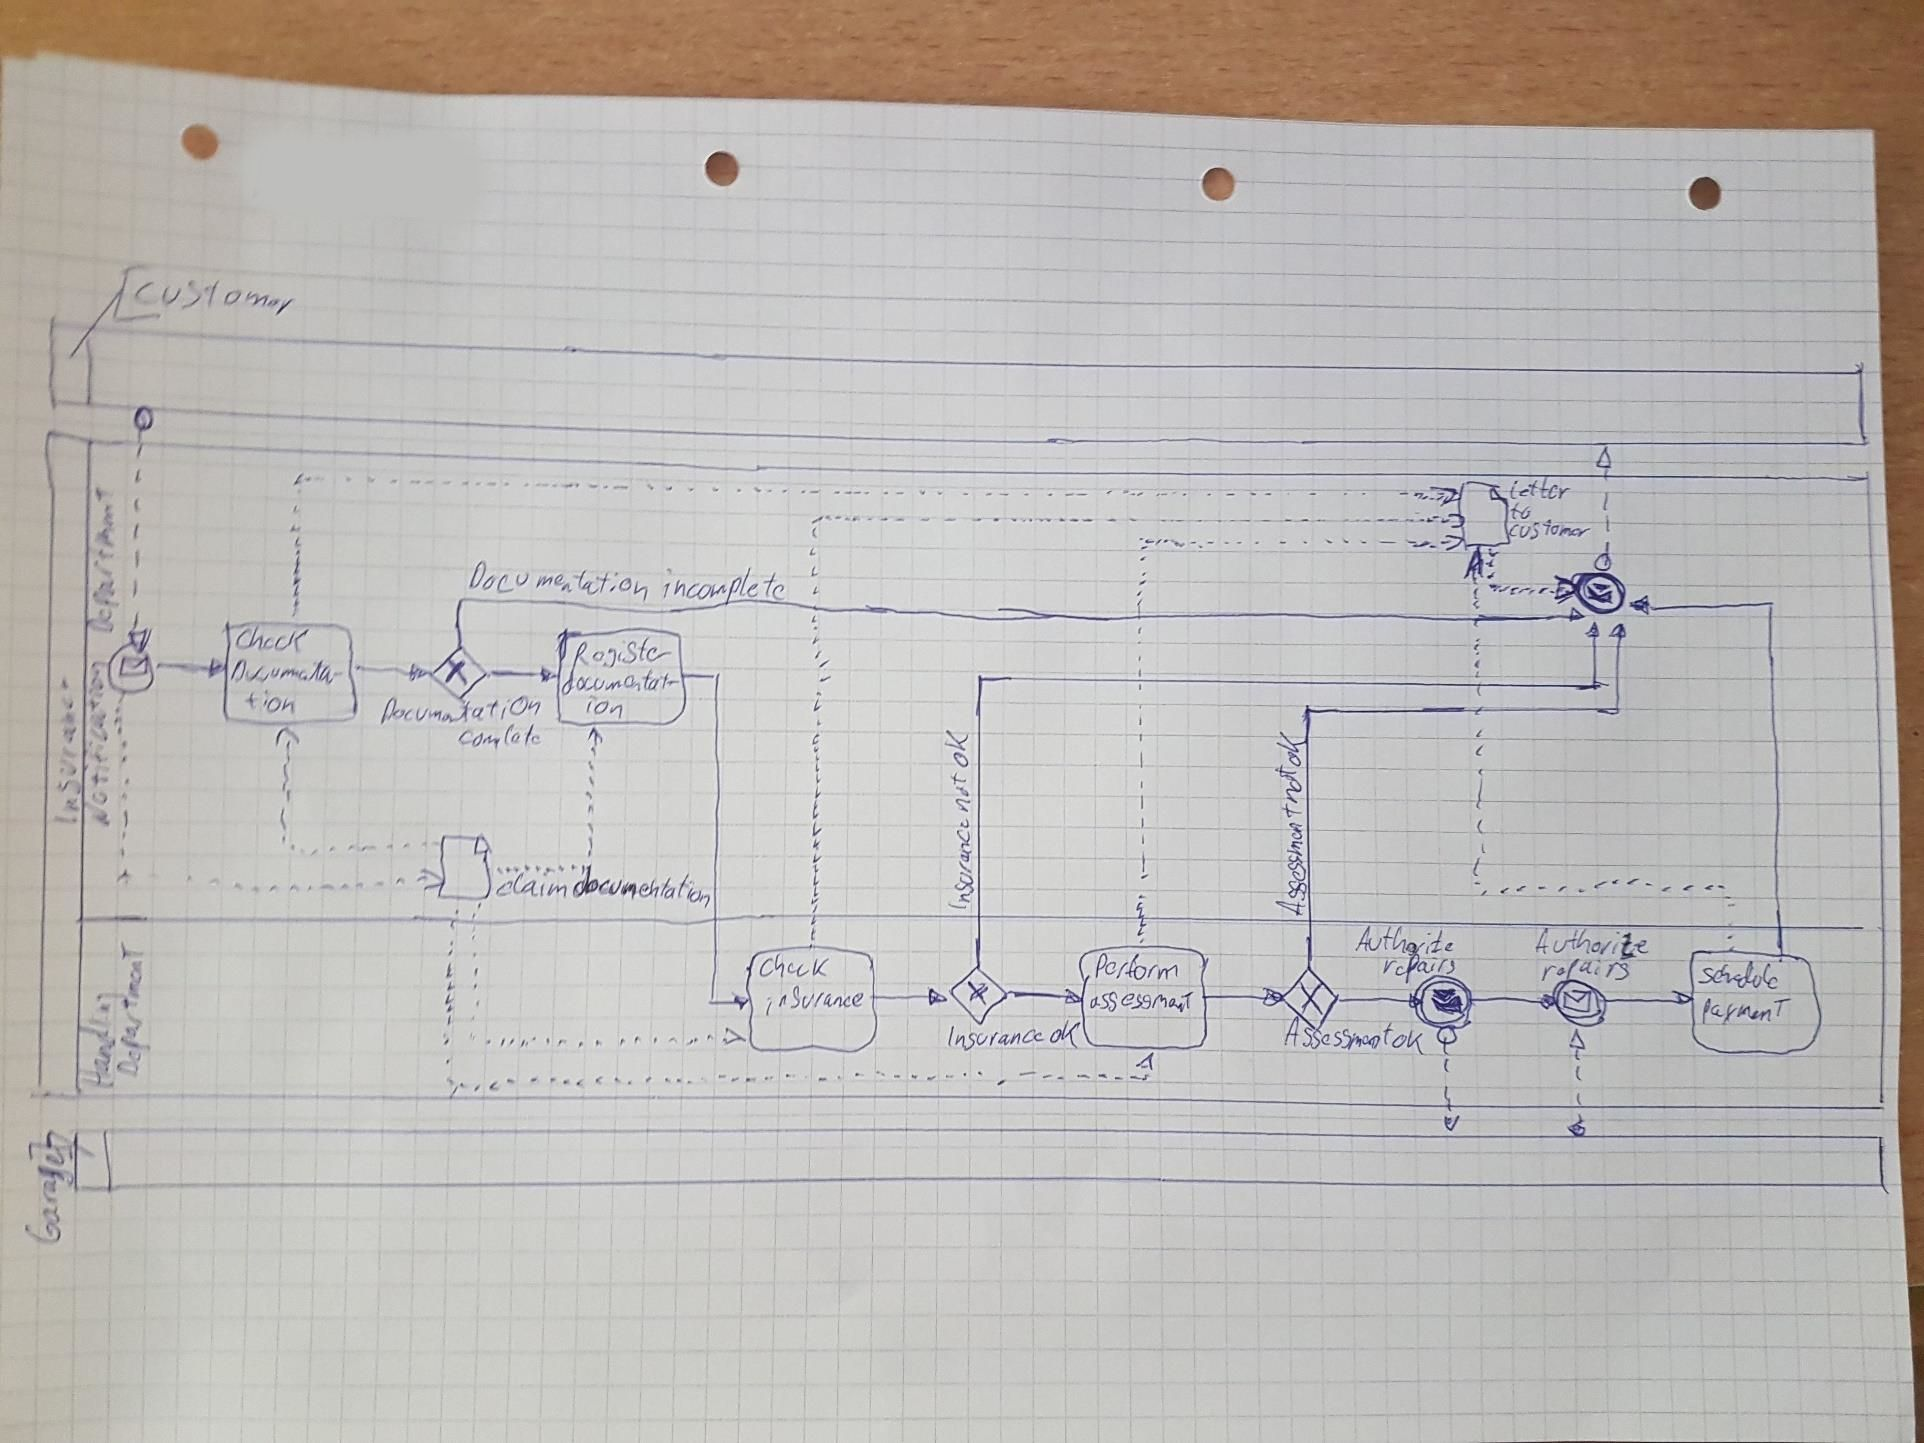Assessment: (1279, 1011, 1398, 1055), (1270, 800, 1312, 920)
Authorize: (1530, 925, 1656, 966), (1350, 922, 1462, 964)
Check: (232, 624, 314, 659)
Department: (77, 477, 126, 640), (111, 937, 158, 1084)
Documenta-: (229, 656, 348, 690)
Documentation: (465, 555, 653, 608), (374, 690, 545, 734)
Garage: (18, 1141, 82, 1250)
Handling: (73, 988, 133, 1091)
Insurance: (45, 665, 88, 831), (942, 1019, 1050, 1058), (942, 815, 980, 916)
Notification: (77, 653, 118, 834)
Perform: (1091, 947, 1183, 988)
Register: (565, 634, 679, 678)
assessment: (1085, 987, 1198, 1017)
check: (753, 949, 835, 984)
claim: (492, 869, 573, 905)
complete: (453, 721, 545, 753)
customer: (127, 274, 301, 321), (1504, 515, 1598, 546)
documentat-: (556, 665, 683, 700)
documentation: (568, 861, 717, 914)
incomplete: (654, 562, 792, 611)
insurance: (761, 981, 870, 1022)
ion: (579, 693, 630, 725)
letter: (1504, 474, 1574, 505)
not: (1267, 762, 1309, 809), (944, 770, 977, 819)
ok: (938, 726, 976, 772), (1044, 1016, 1088, 1053), (1273, 728, 1310, 772), (1388, 1026, 1430, 1061)
payment: (1697, 991, 1797, 1029)
repairs: (1535, 955, 1636, 988), (1379, 950, 1462, 988)
schedule: (1694, 956, 1785, 996)
tion: (239, 684, 301, 718)
to: (1506, 500, 1538, 524)
